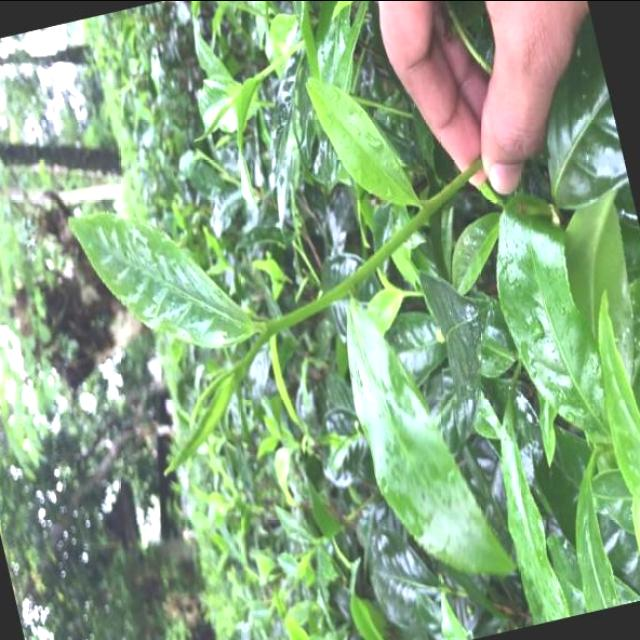Stem: (267, 320, 278, 333)
